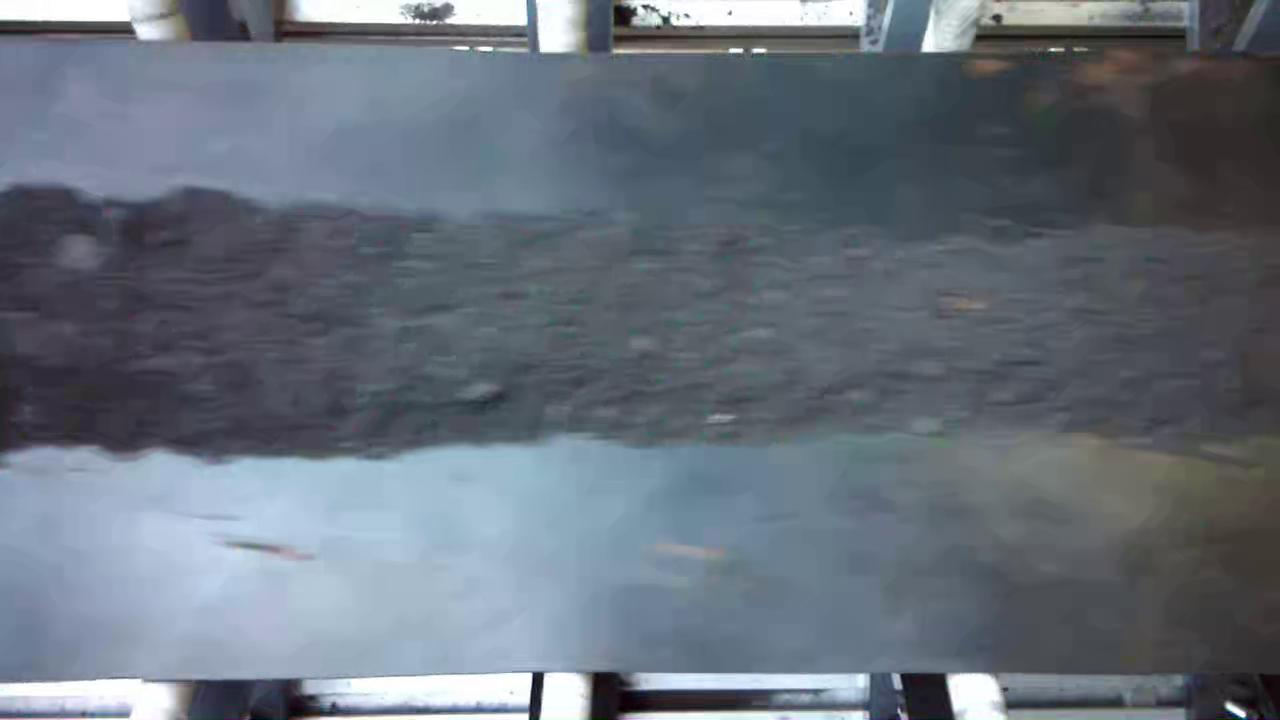conveyor: (9, 61, 1280, 669)
